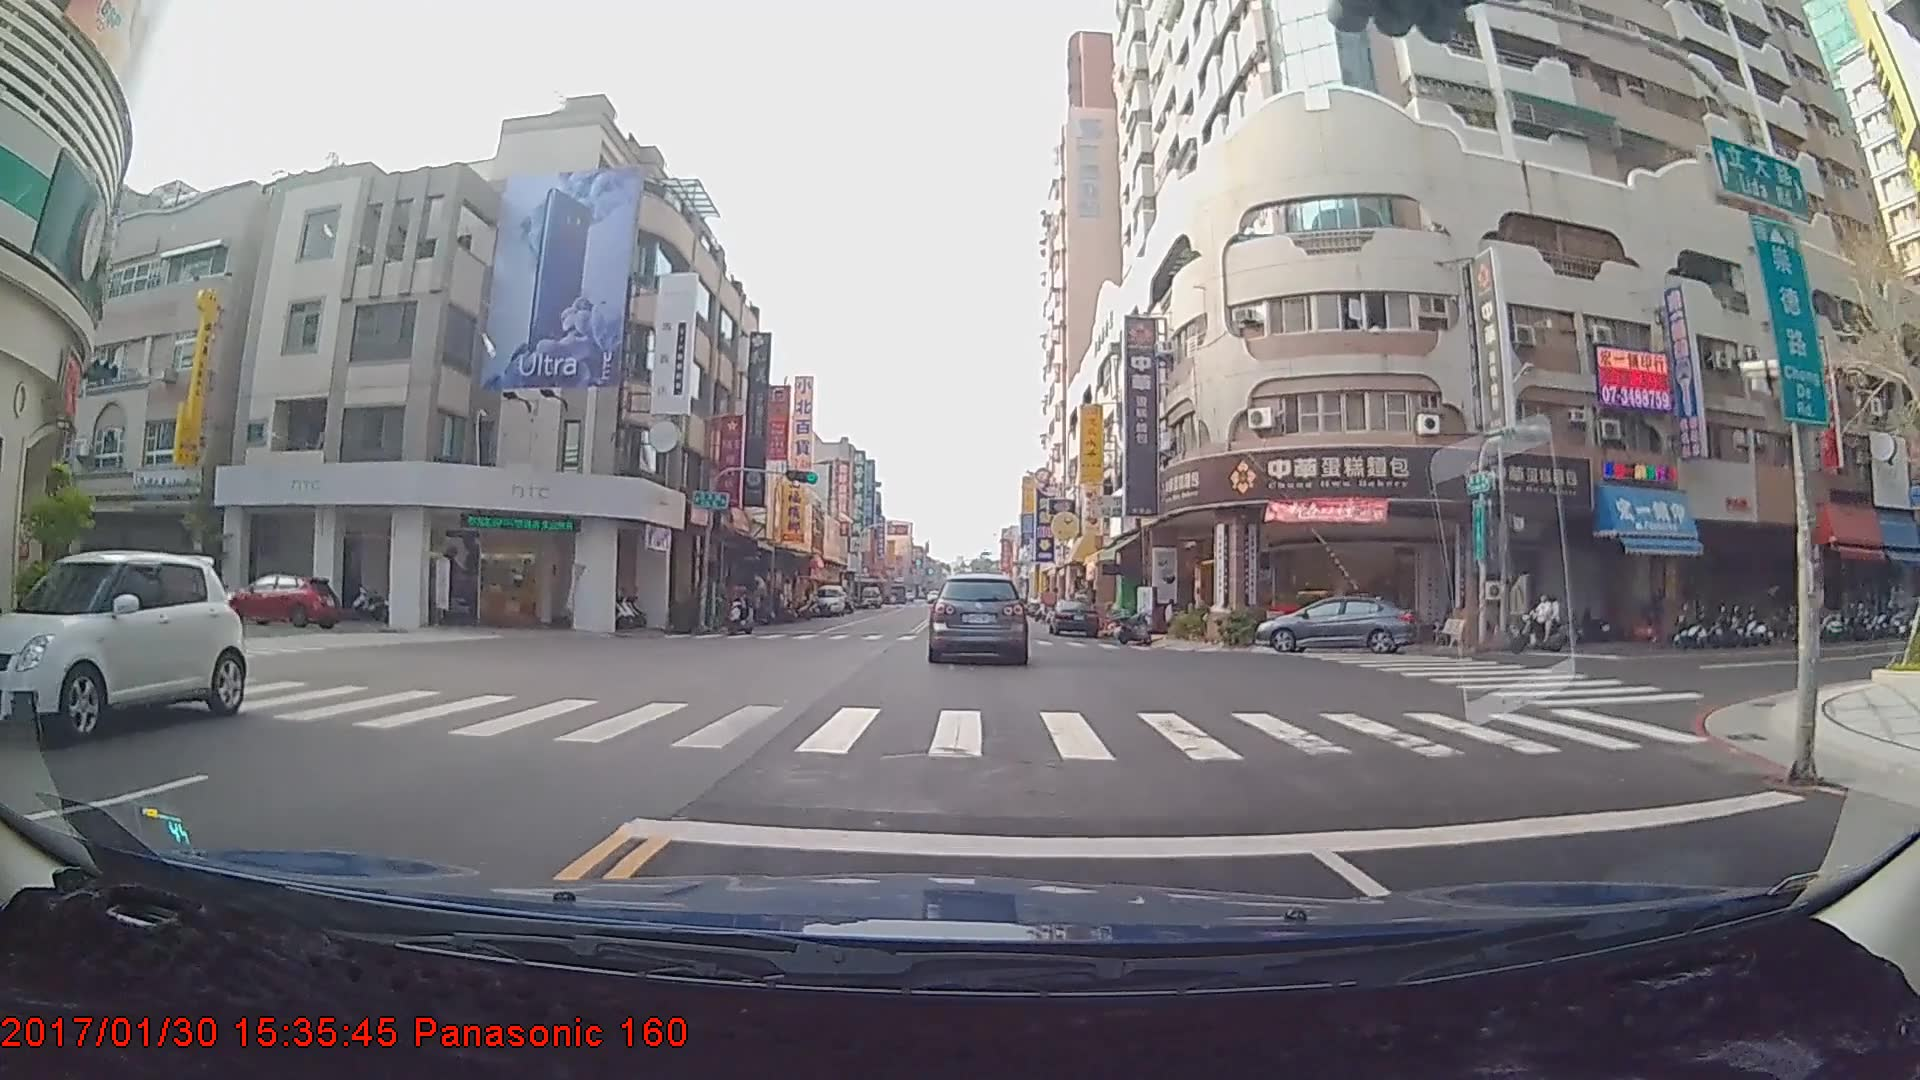rider: (1513, 590, 1573, 648), (721, 577, 756, 636)
vehicle: (0, 547, 244, 746), (1253, 591, 1414, 649), (928, 575, 1026, 663), (223, 572, 341, 629), (1047, 597, 1098, 636), (810, 583, 845, 615)
